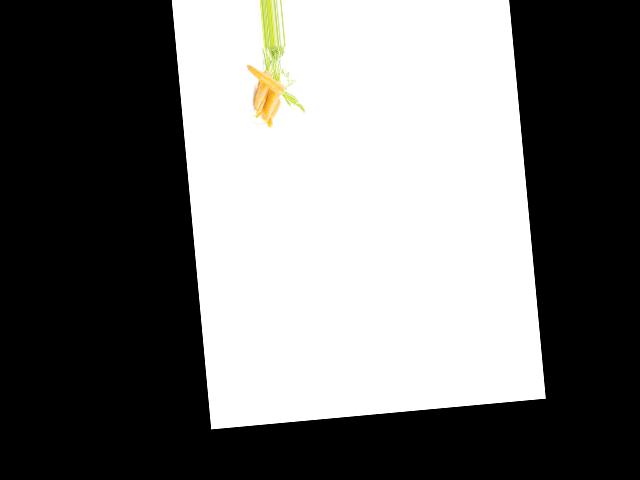carrot: (251, 68, 274, 115)
